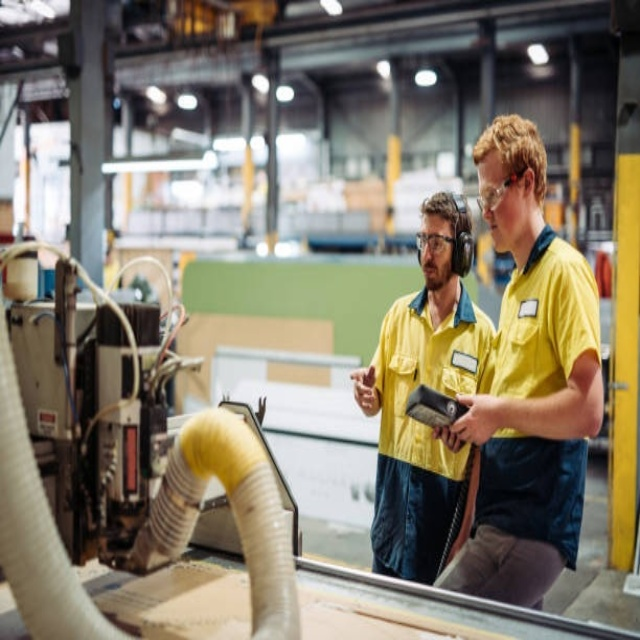Gafas: (477, 171, 521, 212), (416, 232, 456, 255)
Sin_guantes: (452, 381, 502, 447), (351, 363, 379, 414), (429, 422, 467, 452)
Sin_mascara: (489, 218, 504, 248), (421, 262, 439, 287)
